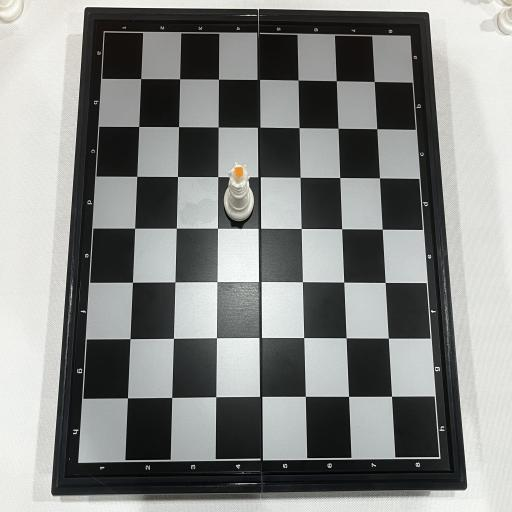White queen: (224, 161, 254, 221)
